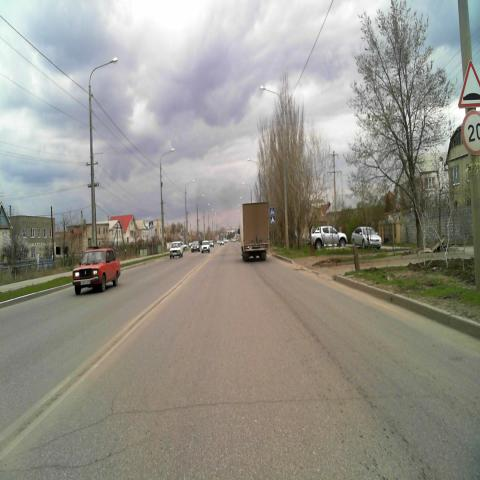1_17: (458, 58, 480, 108)
5_19_1: (270, 206, 274, 215), (149, 221, 154, 228)
5_20: (270, 215, 275, 224)
